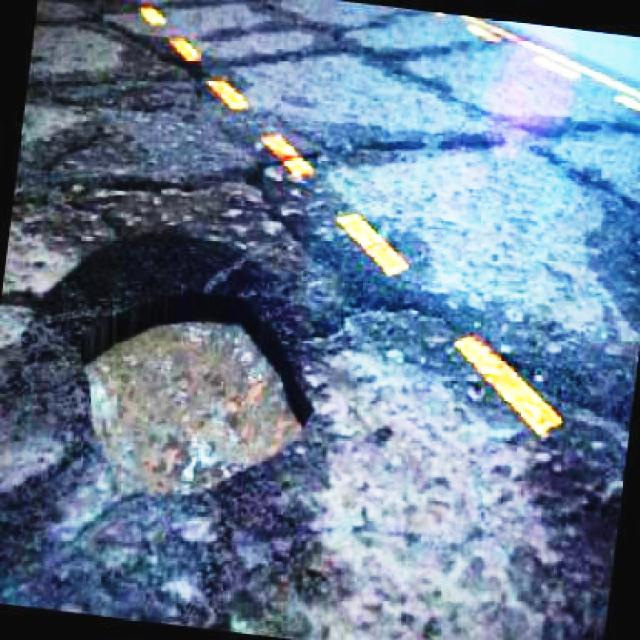pothole: (78, 303, 317, 500)
